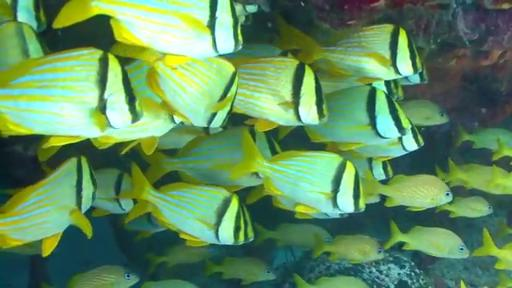Fish: (0, 48, 143, 147), (52, 0, 243, 63), (121, 164, 254, 245), (231, 135, 365, 213), (276, 17, 423, 83), (0, 156, 96, 256), (145, 127, 280, 189), (93, 60, 180, 154), (229, 56, 327, 131), (305, 86, 411, 149), (147, 58, 238, 127), (91, 98, 176, 155), (384, 221, 469, 258), (378, 175, 452, 211), (348, 125, 423, 160), (436, 160, 511, 194), (0, 21, 45, 69), (312, 235, 385, 263), (92, 168, 134, 216), (206, 257, 276, 285), (332, 148, 393, 180), (254, 224, 332, 249), (156, 123, 223, 151), (147, 244, 211, 273), (272, 196, 347, 219), (124, 60, 163, 103), (472, 228, 511, 269), (68, 266, 139, 287), (2, 0, 47, 32), (455, 126, 511, 150), (400, 100, 449, 126), (436, 196, 493, 217), (124, 214, 167, 239), (222, 44, 288, 59), (317, 72, 362, 94), (294, 274, 369, 287), (361, 174, 383, 203), (0, 241, 41, 255), (398, 66, 428, 85), (234, 2, 259, 24), (492, 140, 511, 161), (142, 280, 197, 287), (0, 0, 15, 23), (498, 220, 511, 237), (498, 272, 511, 287)
